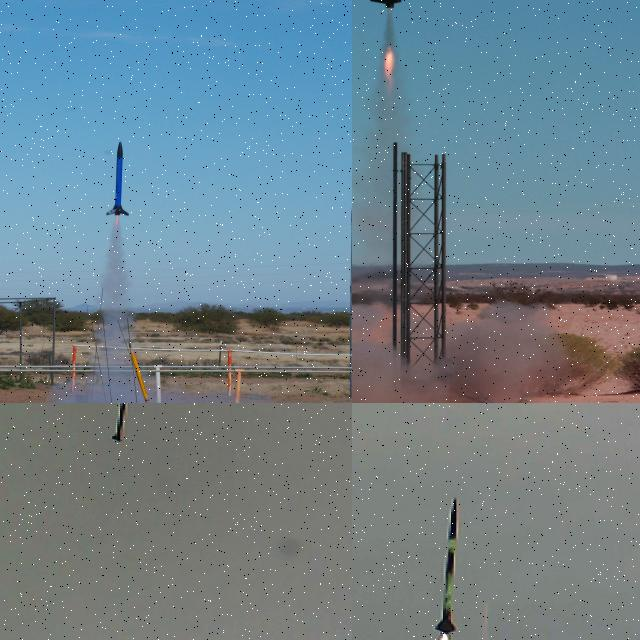Rocket: (432, 497, 458, 634), (128, 341, 158, 403), (105, 142, 130, 216), (111, 403, 129, 442)
